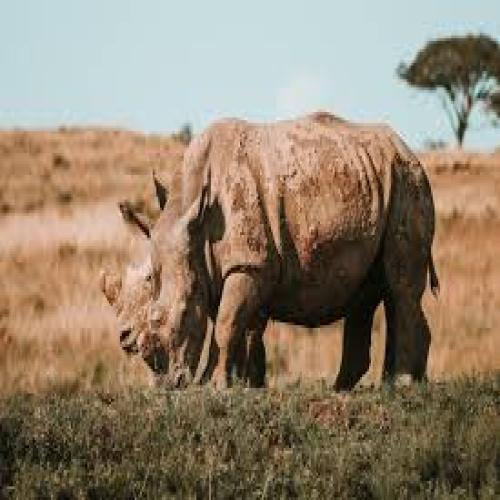rhino-endangered: (133, 108, 437, 386)
